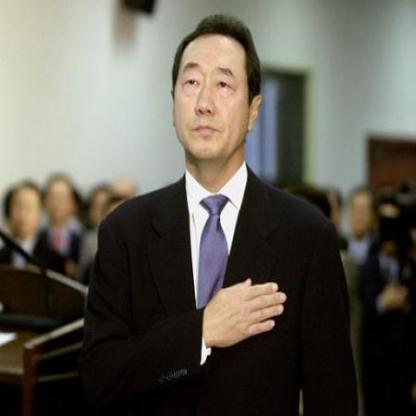face: (172, 23, 255, 163), (10, 186, 44, 238), (47, 180, 74, 224), (351, 192, 375, 233), (89, 190, 112, 229)
